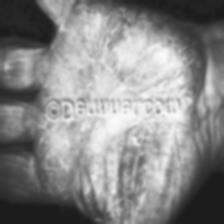Non-Cancerous Skin Condition: (0, 130, 180, 192), (61, 32, 224, 88), (27, 1, 140, 32)
